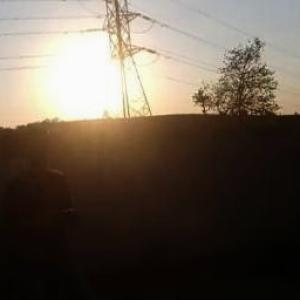follow: (4, 119, 86, 299)
